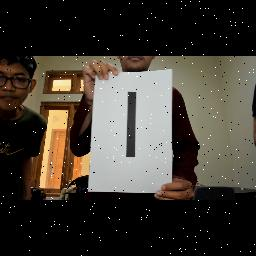i: (123, 88, 141, 164)
